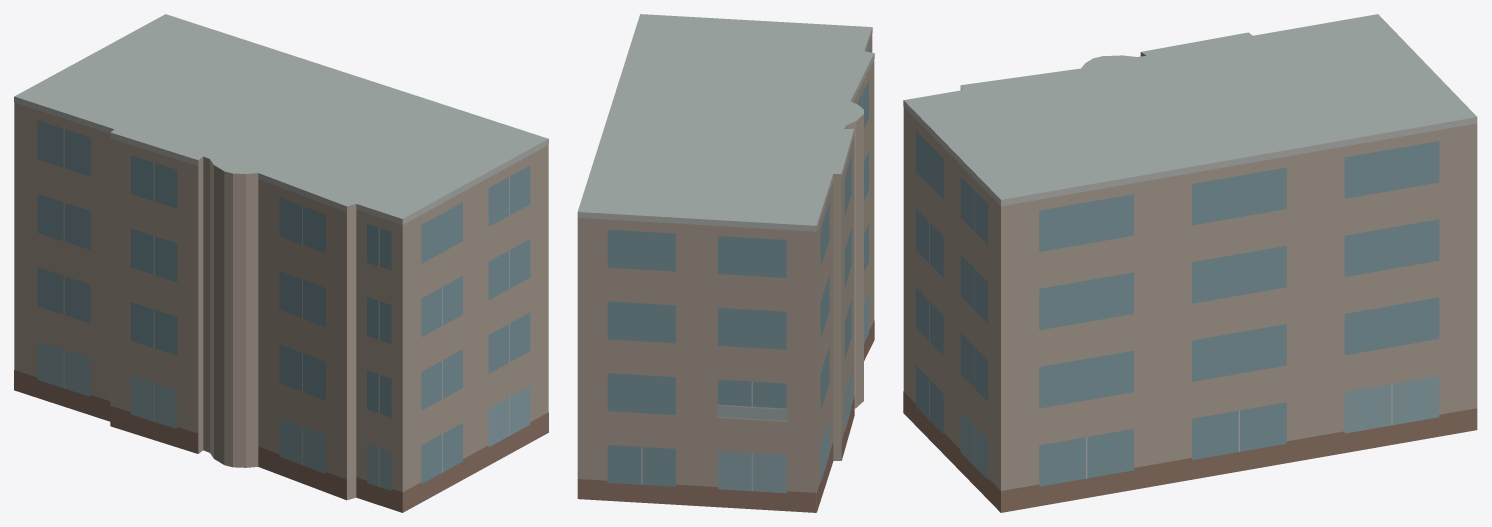
The model's file is survey-upis-32881504.glb.
The picture shows the model from 3 angles, left to right: view 1: azimuth 30°, elevation 25°; view 2: azimuth 150°, elevation 25°; view 3: azimuth 270°, elevation 25°; orthographic projection. The views are drawn at different scales.
Visible parts, largest first — view 1: survey-upis-32881504.tmp; view 2: survey-upis-32881504.tmp; view 3: survey-upis-32881504.tmp.
Boxes of the visible parts, <box> form: survey-upis-32881504.tmp: <box>14,14,548,512</box>; survey-upis-32881504.tmp: <box>577,14,874,512</box>; survey-upis-32881504.tmp: <box>903,14,1477,512</box>.
Size of the model in its own units: 15.3 by 12 by 19.95.
